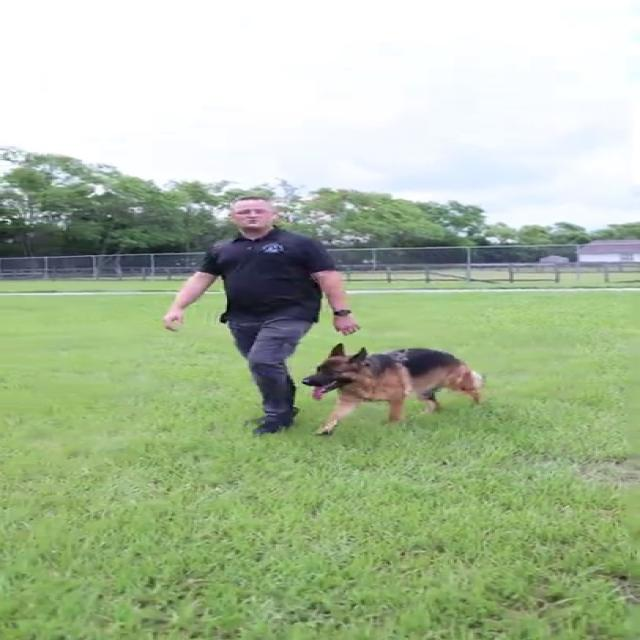Unleashed_Dog: (253, 344, 486, 437)
